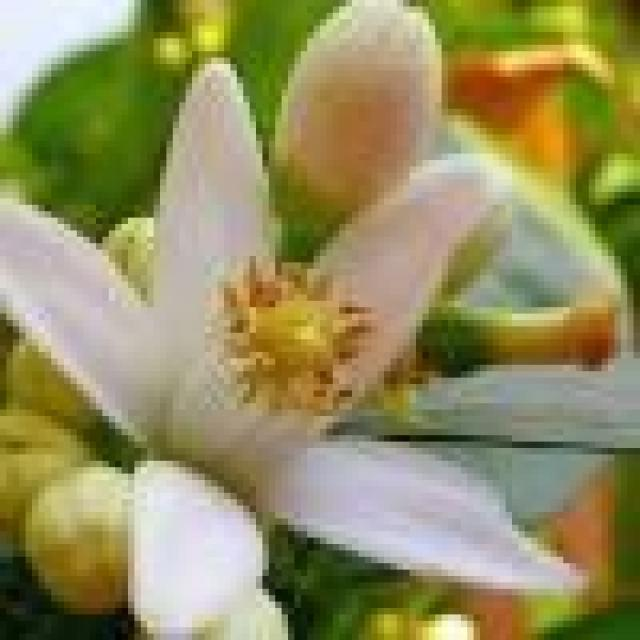Bunga: (0, 57, 589, 640), (262, 0, 448, 256), (26, 467, 140, 621)
